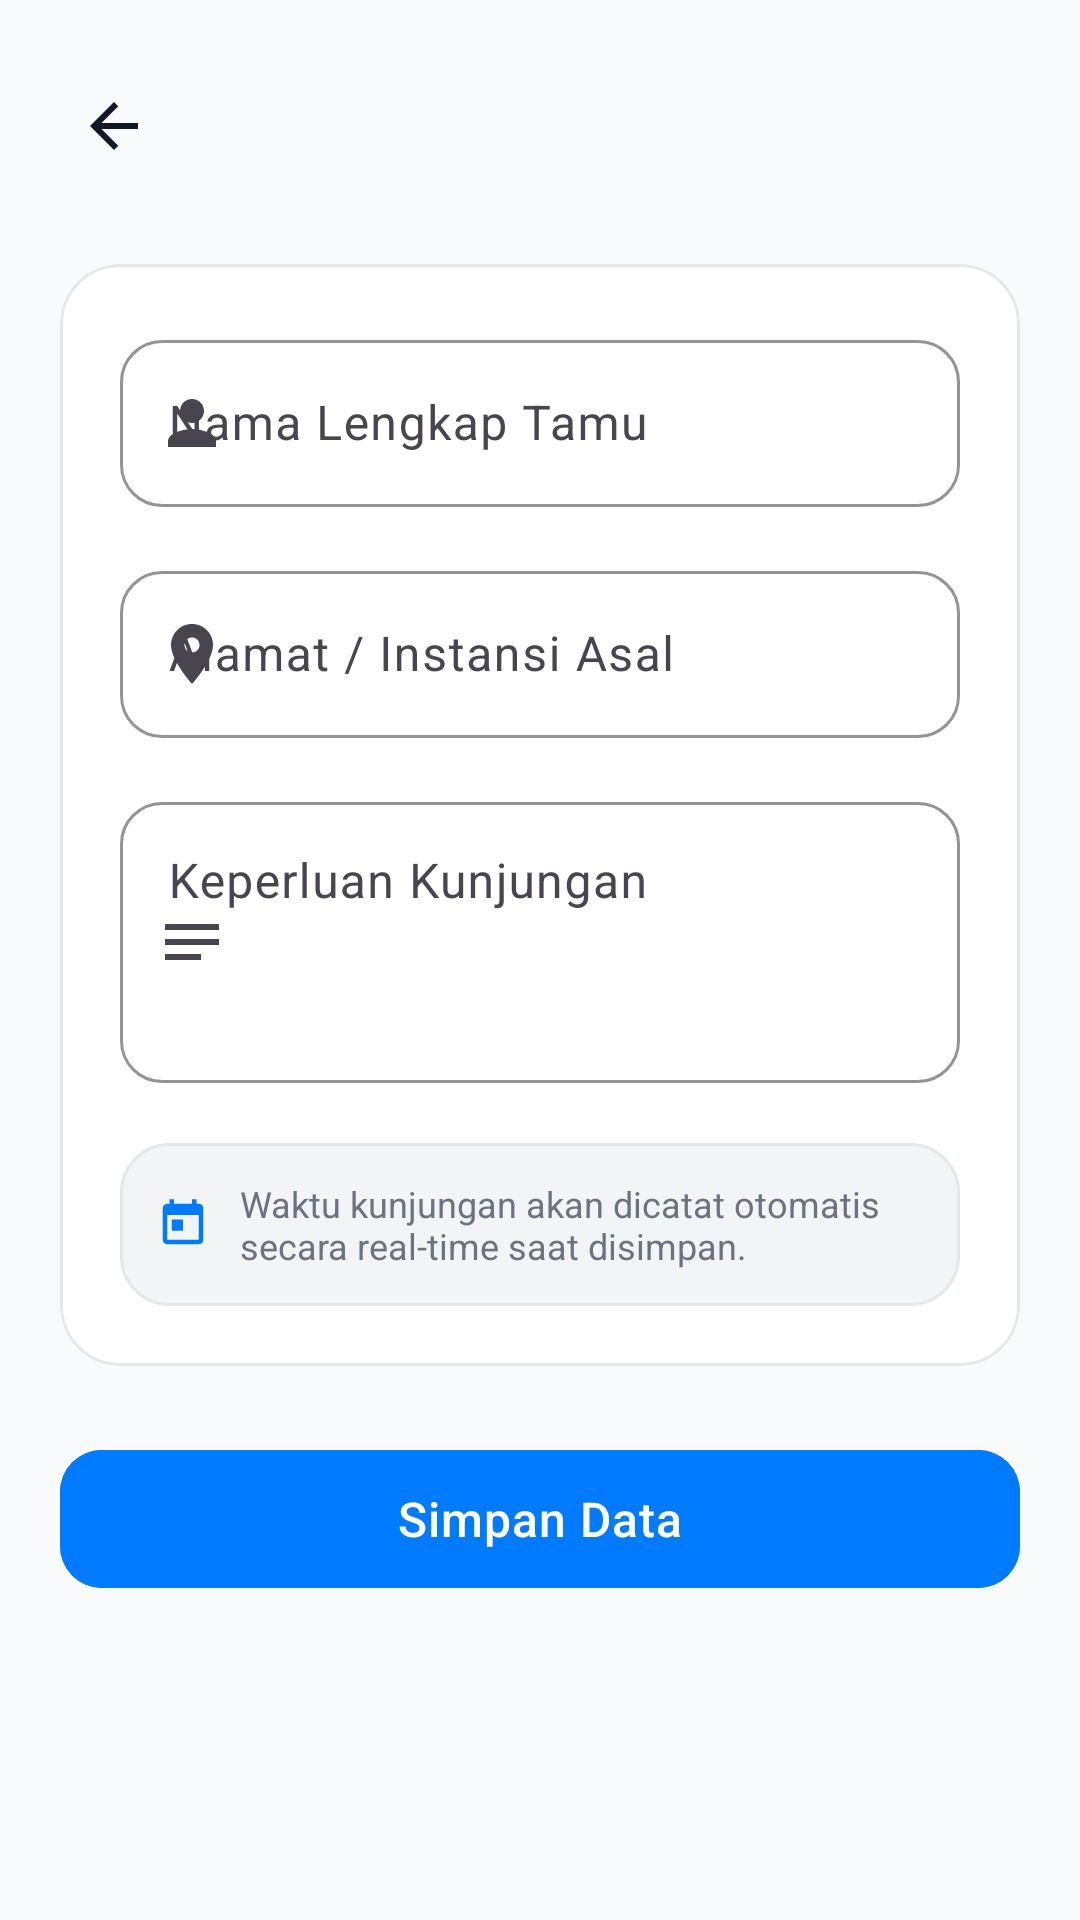

Where to tap for icons on this 1080 x 1920 app screen, as (x=x, y=y):
calendar: (x=183, y=1222)
